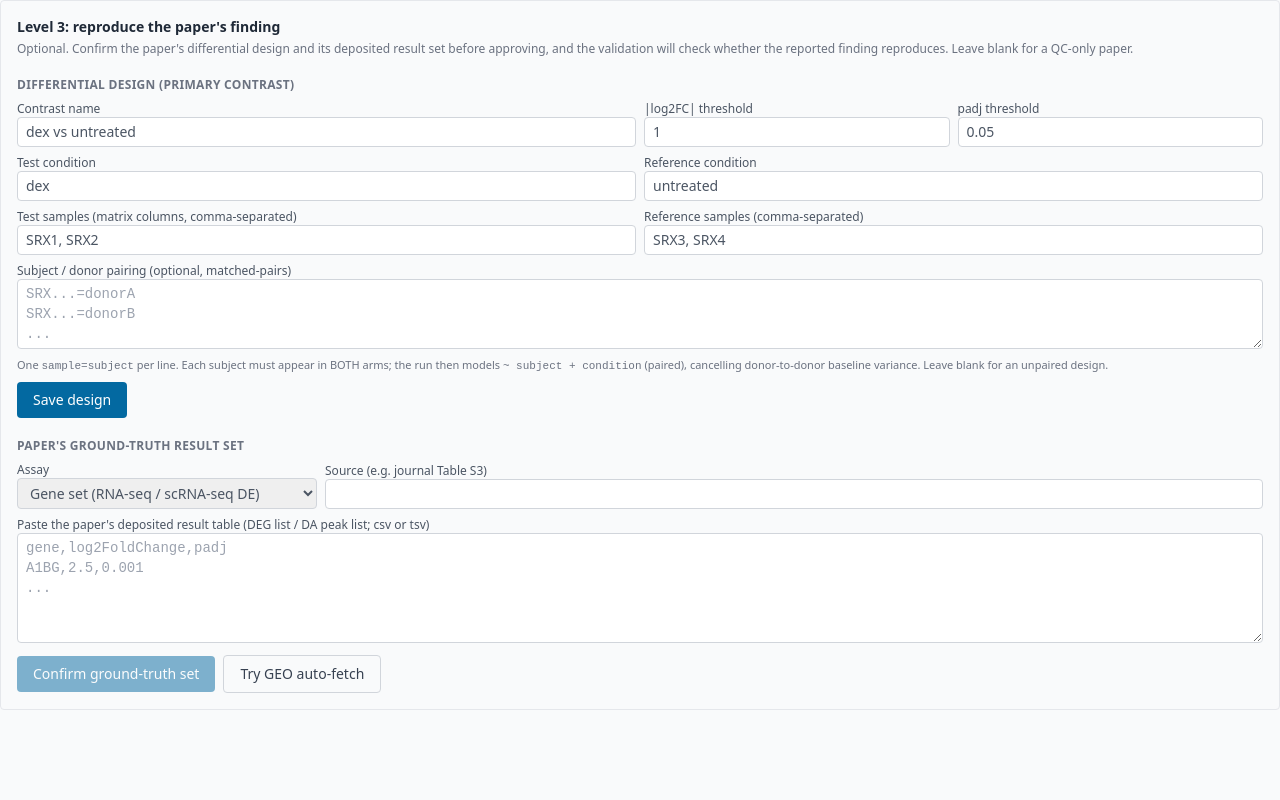
Scenario: auto-fetch with no candidates points the user to the journal SI
The image size is (1280, 800).
What coordinates should you click on to do the following:
click the button "Try GEO auto-fetch"
I would click on:
 (302, 674)
Its box is [223,655,381,693].
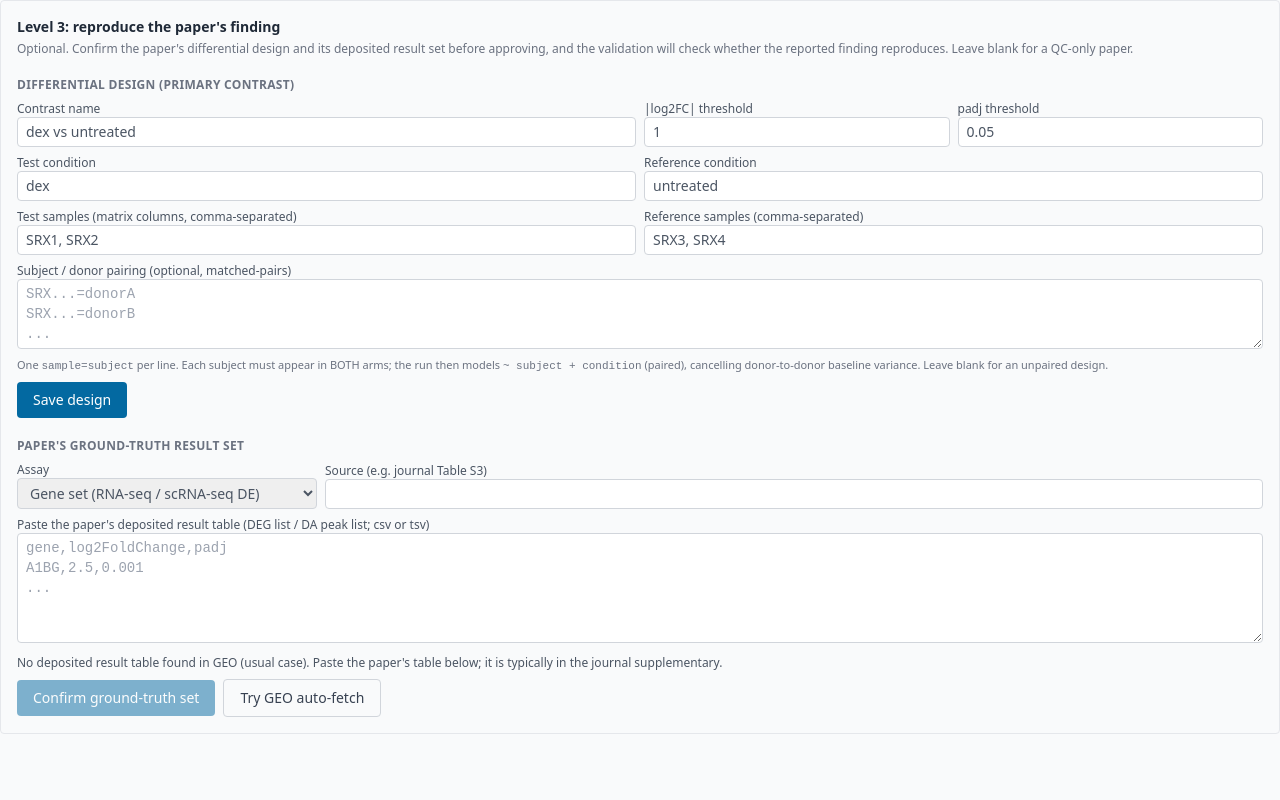
Check: the text "No deposited result table" is shown, box [17,654,722,671]
